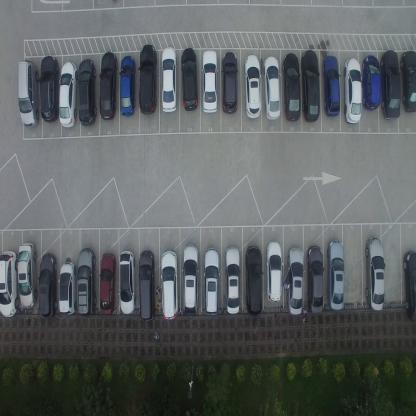car: (16, 58, 38, 129), (365, 236, 385, 311), (381, 50, 401, 122), (76, 246, 96, 318), (138, 42, 157, 115), (39, 54, 59, 123), (282, 52, 301, 124), (301, 50, 320, 122), (58, 61, 78, 129), (99, 51, 118, 121), (244, 246, 262, 318), (286, 245, 304, 317), (17, 240, 36, 308), (160, 248, 178, 319), (306, 244, 324, 314), (262, 56, 281, 122), (181, 242, 198, 315), (327, 238, 344, 311), (344, 58, 362, 126), (38, 252, 56, 320), (78, 58, 96, 126), (0, 249, 17, 320), (244, 53, 262, 119), (138, 248, 154, 322), (180, 46, 198, 111), (98, 250, 115, 317), (224, 244, 240, 315), (203, 246, 219, 317), (322, 55, 340, 118), (221, 51, 238, 115), (118, 248, 134, 315), (160, 45, 176, 112), (402, 249, 416, 323), (202, 49, 218, 113), (265, 242, 282, 302), (363, 55, 381, 111), (58, 261, 76, 317), (119, 54, 135, 116), (401, 50, 416, 113)
